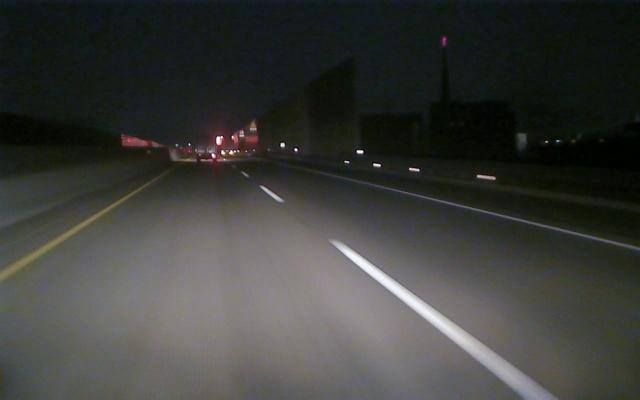lane: (249, 176, 560, 399), (330, 173, 640, 252), (1, 194, 130, 281)
